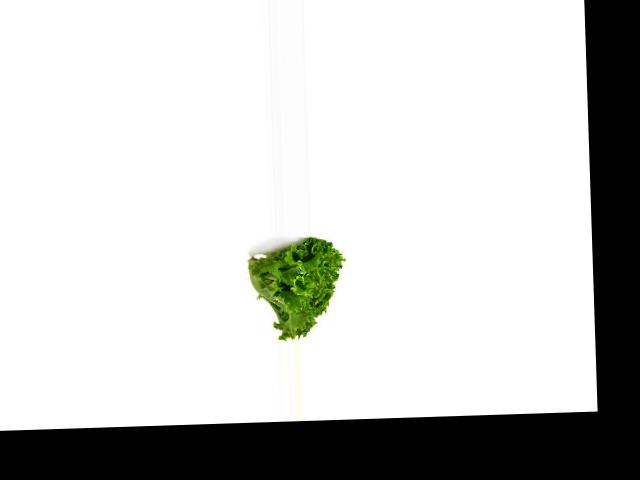lettuce: (240, 236, 353, 344)
